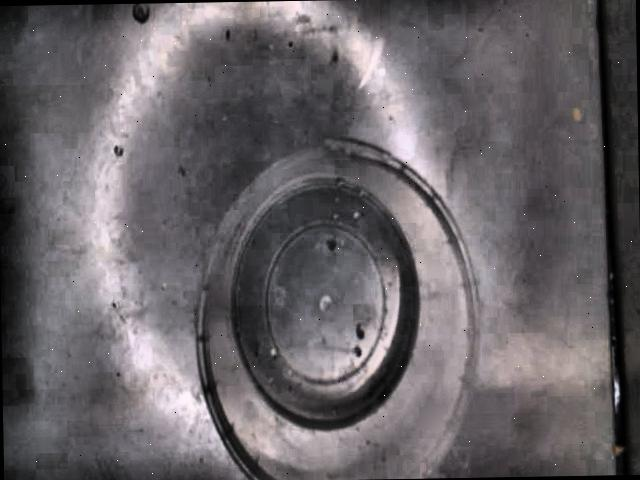Plastic: (189, 130, 476, 480)
